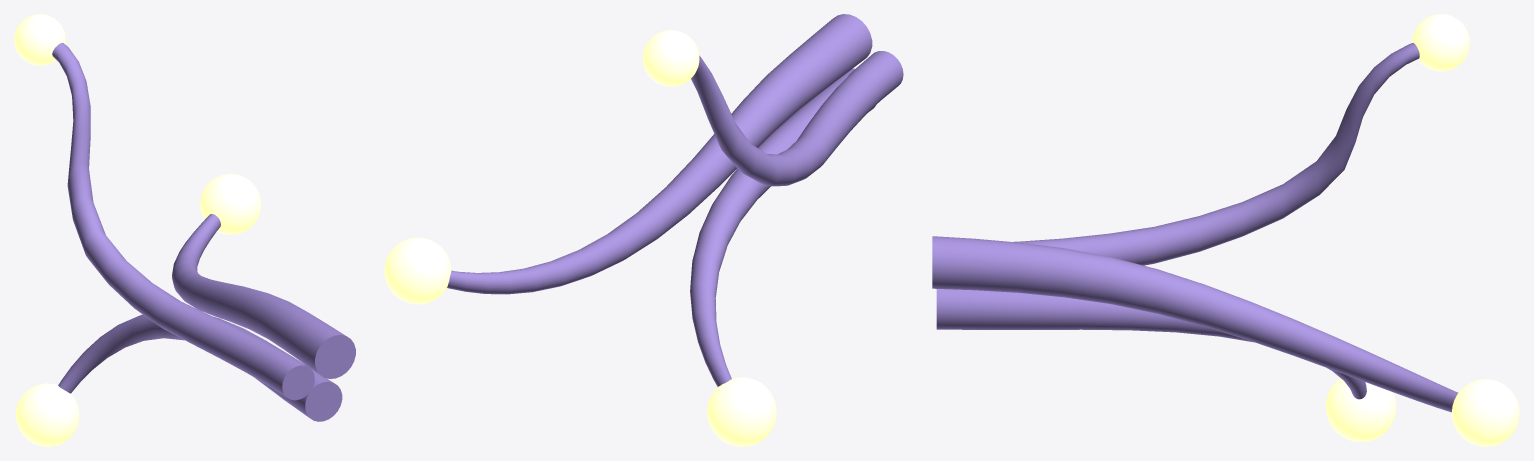
The model's file is Tenta Light Shrooms.fbx.
3 renders of one model, left to right at view 1: azimuth 30°, elevation 25°; view 2: azimuth 150°, elevation 25°; view 3: azimuth 270°, elevation 25°, orthographic. The views are drawn at different scales.
Parts seen in each view (by area): view 1: Cylinder; view 2: Cylinder; view 3: Cylinder.
Boxes of the visible parts, <box> form: Cylinder: <box>14,14,355,446</box>; Cylinder: <box>384,14,903,446</box>; Cylinder: <box>932,14,1519,446</box>.
Bounding box in the file's own units: 1402 × 1800 × 2190.
